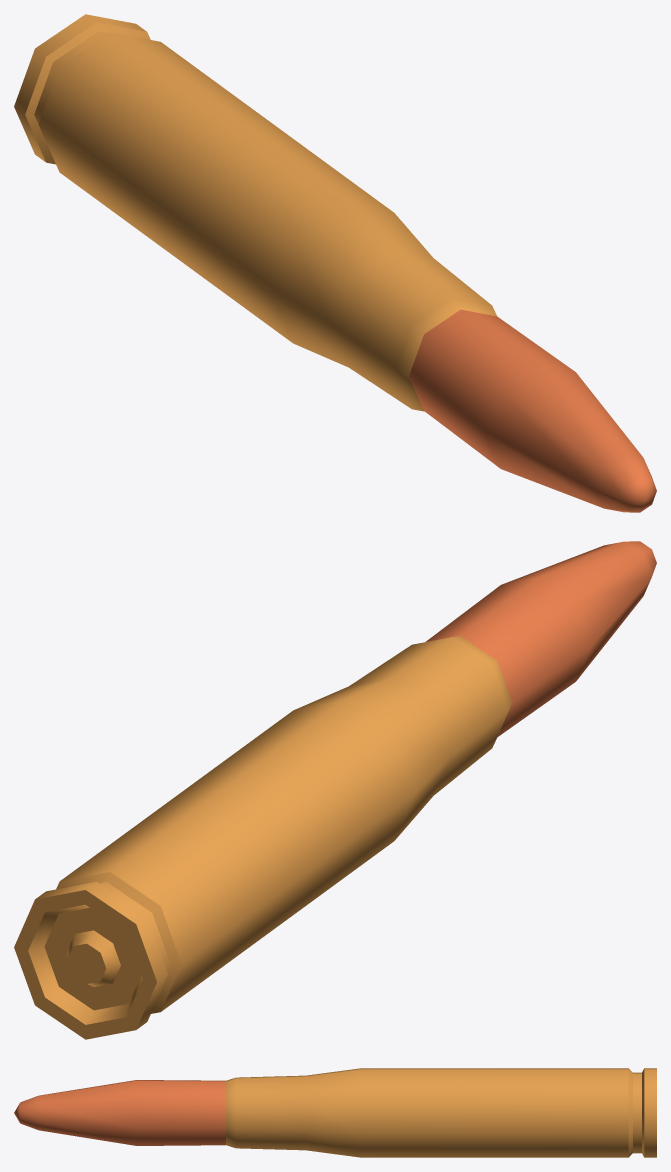
File: bullet.fbx
The picture shows the model from 3 angles, top to bottom: view 1: azimuth 30°, elevation 25°; view 2: azimuth 150°, elevation 25°; view 3: azimuth 270°, elevation 25°; orthographic projection. The views are drawn at different scales.
Parts seen in each view (by area): view 1: pCylinder1; view 2: pCylinder1; view 3: pCylinder1.
Boxes of the visible parts, left/top/right/bottom form: pCylinder1: left=14, top=14, right=656, bottom=512; pCylinder1: left=14, top=541, right=656, bottom=1039; pCylinder1: left=14, top=1068, right=656, bottom=1157.
Size of the model in its own units: 0.1234 by 0.1234 by 0.8353.
